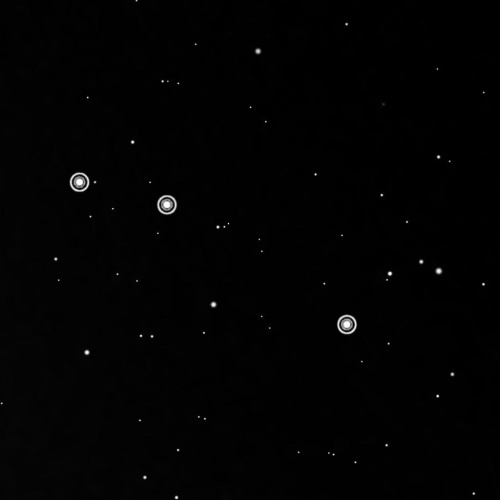vulpecula: (64, 166, 362, 338)
